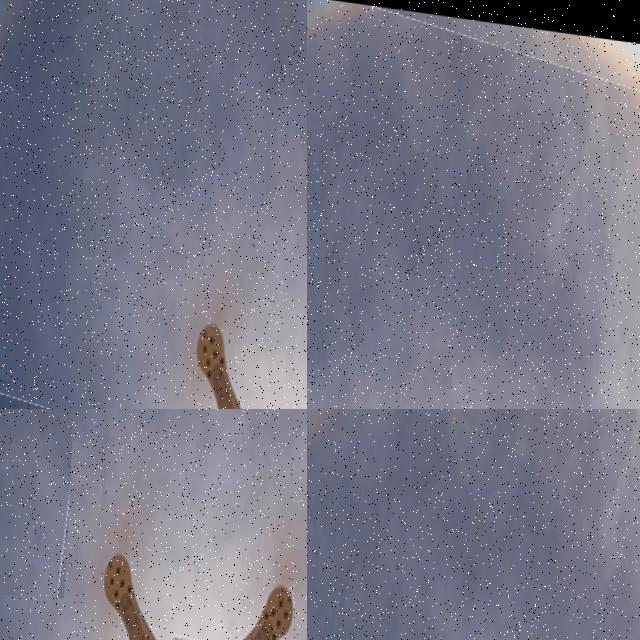drone: (307, 0, 640, 409), (0, 0, 307, 409), (0, 409, 92, 598)
